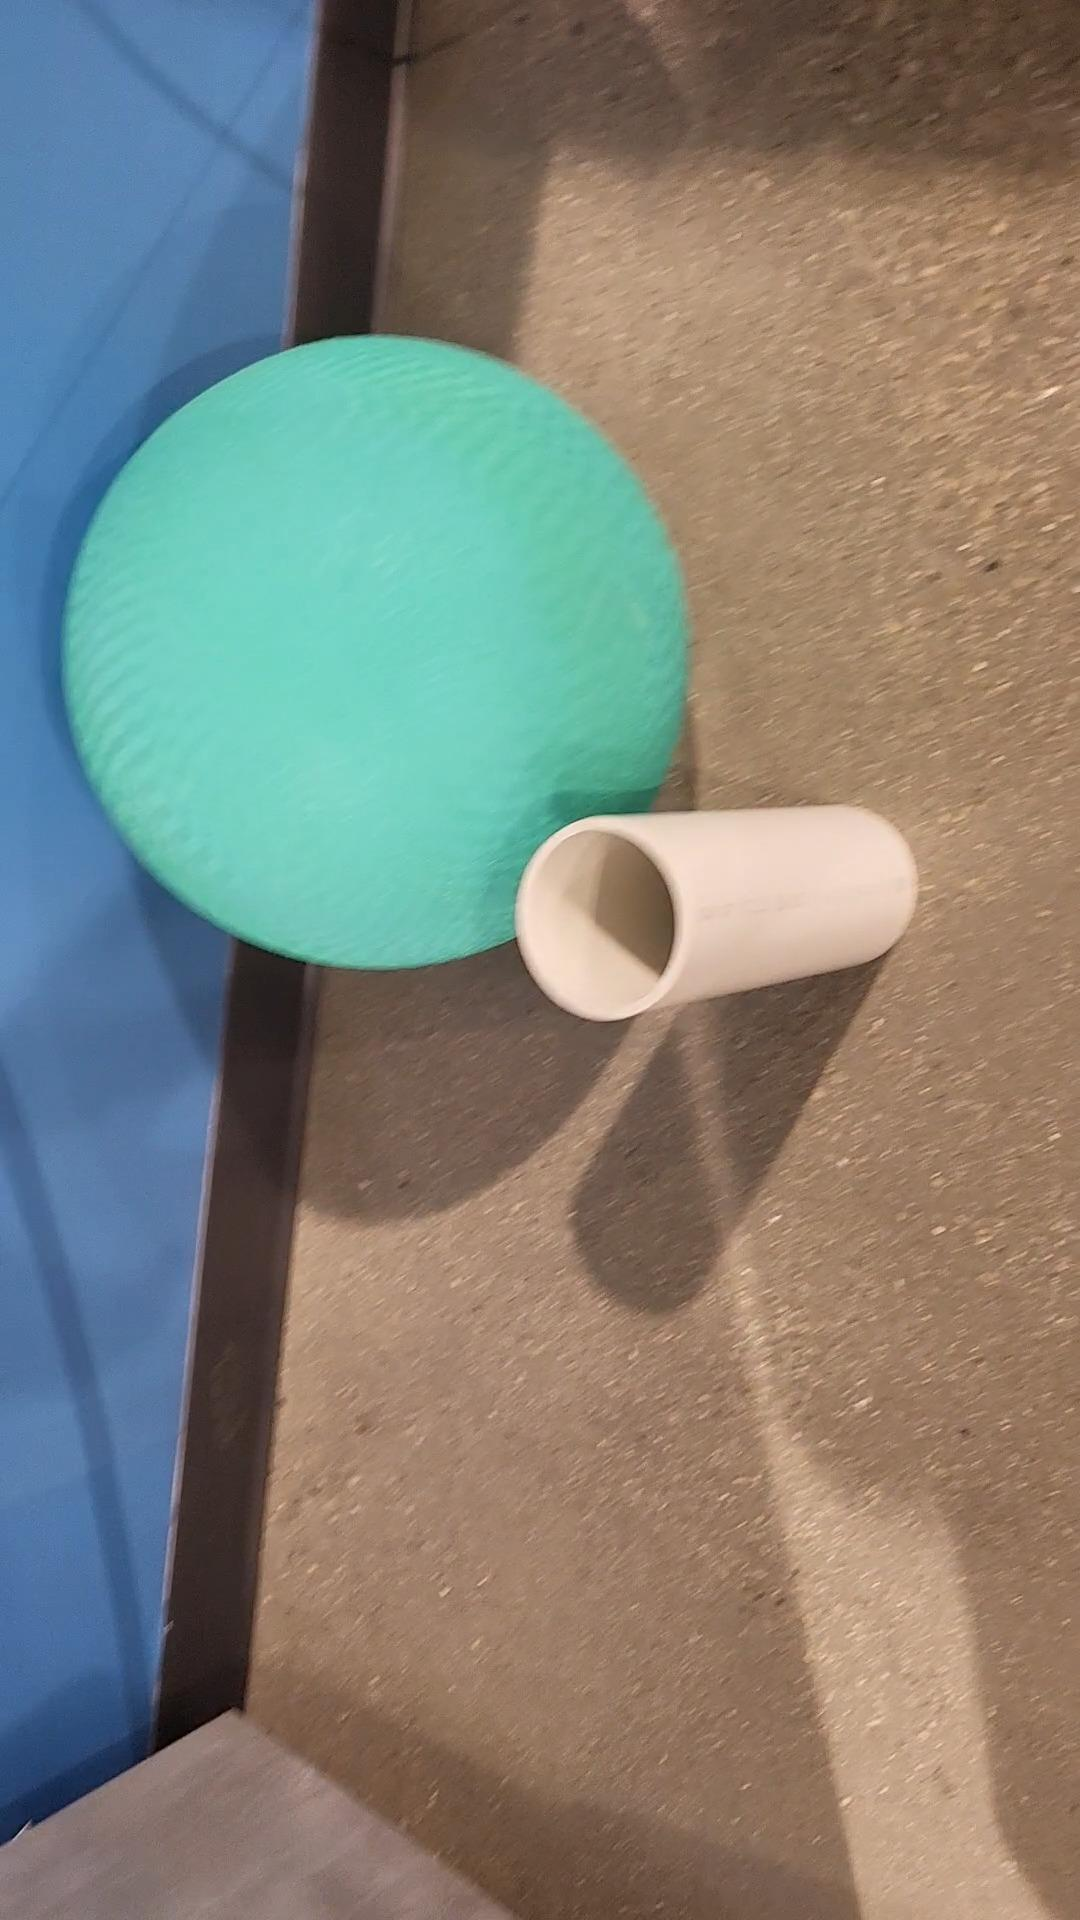algae: (66, 336, 686, 967)
coral: (517, 806, 918, 1019)
